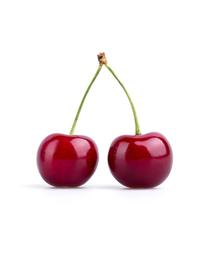cherry: (108, 132, 173, 189), (37, 133, 99, 187)
